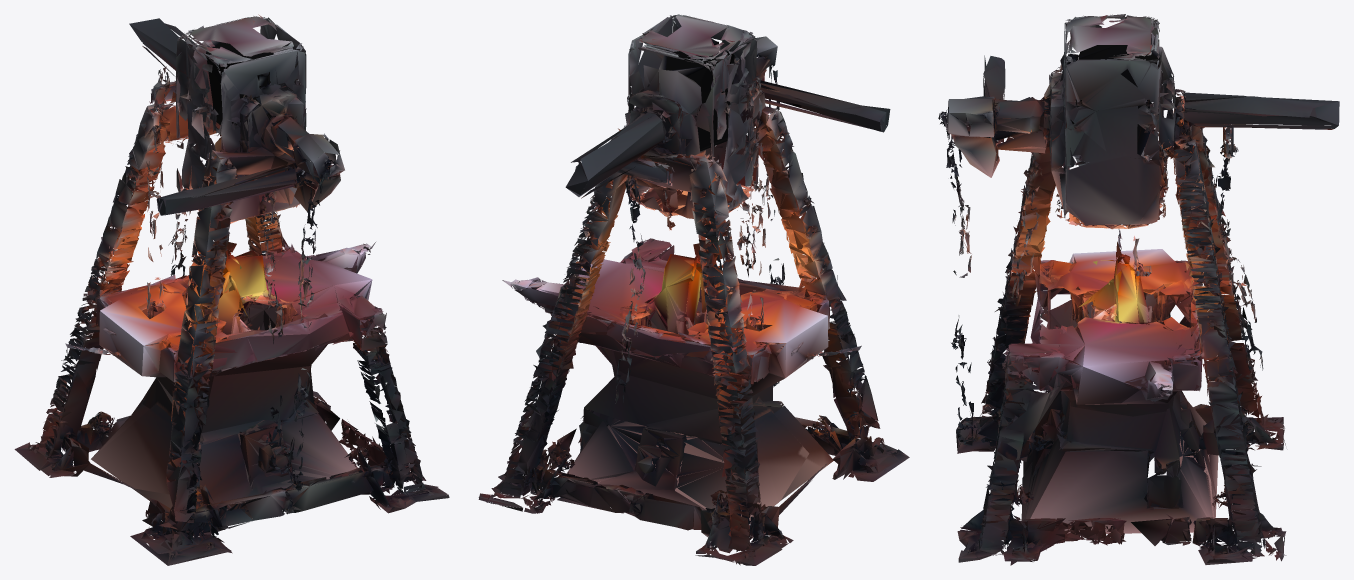
The model's file is forge_hammer.glb.
3 views of the same model, side by side, from view 1: azimuth 30°, elevation 25°; view 2: azimuth 150°, elevation 25°; view 3: azimuth 270°, elevation 25° (orthographic). The views are drawn at different scales.
Parts seen in each view (by area): view 1: forge_hammer_body; view 2: forge_hammer_body; view 3: forge_hammer_body.
Part boxes in pixels (box(x1,y1,x2,y2)): forge_hammer_body: box(14, 14, 449, 565); forge_hammer_body: box(478, 14, 909, 565); forge_hammer_body: box(938, 14, 1339, 565).
Bounding box in the file's own units: 11.19 × 14.18 × 11.07.
1 material, 1 textured.
